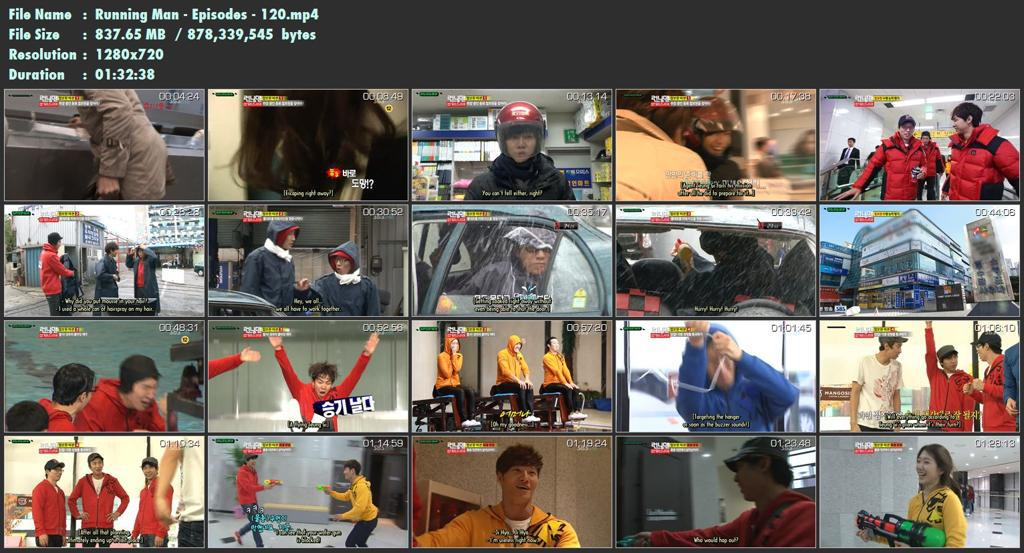face: (707, 339, 736, 387), (503, 466, 538, 502), (733, 463, 763, 500), (521, 239, 551, 274), (129, 377, 156, 412), (506, 135, 537, 163), (917, 449, 939, 484), (704, 133, 733, 156), (76, 382, 93, 410), (315, 375, 332, 396), (708, 250, 727, 265), (336, 256, 351, 275), (284, 229, 297, 249), (901, 124, 915, 140), (953, 116, 967, 132), (890, 342, 902, 360), (944, 355, 958, 370), (142, 464, 156, 479), (91, 460, 104, 474), (976, 344, 986, 360), (51, 468, 62, 482), (551, 339, 560, 352), (451, 340, 460, 352), (344, 467, 353, 479), (249, 459, 257, 467), (515, 344, 522, 353), (923, 136, 930, 144), (139, 249, 144, 257), (848, 140, 854, 146), (58, 241, 62, 249), (114, 249, 118, 257)
